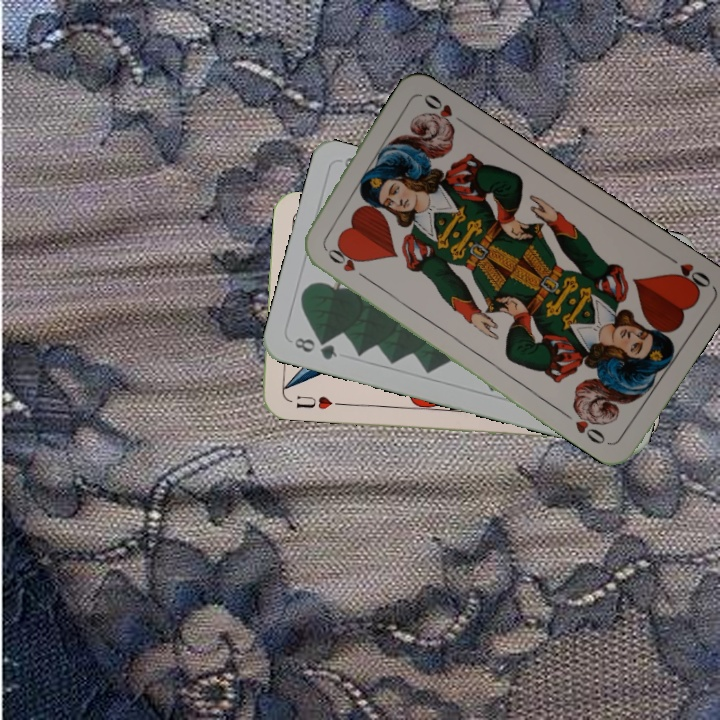G8: (290, 333, 340, 363)
HO: (662, 250, 714, 294), (320, 242, 371, 283)
HU: (292, 391, 335, 412)
